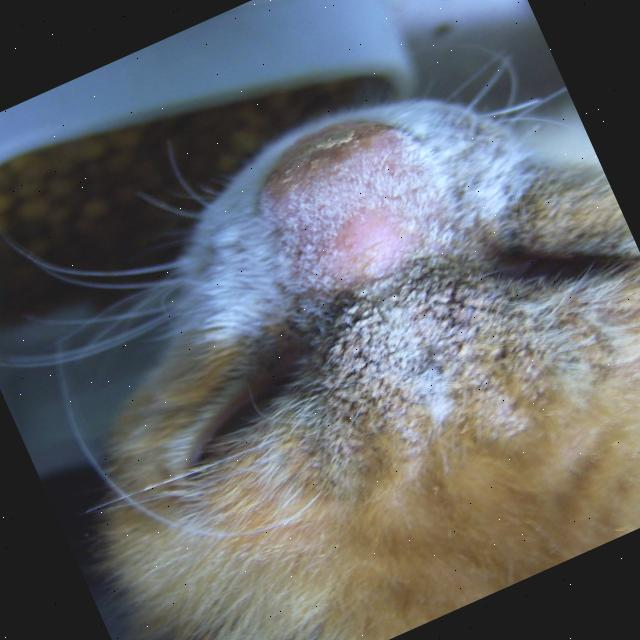cat-scabies: (327, 264, 522, 418)
